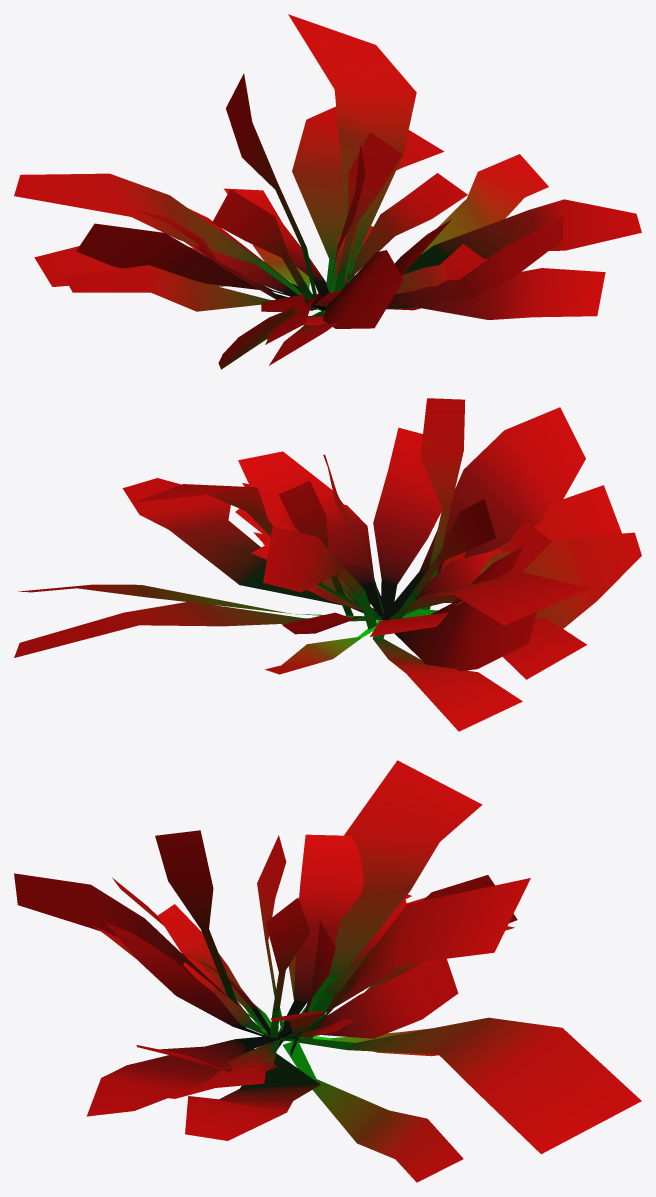
Rendered from Var2_LOD1.fbx.
3 views of the same model, one above another, from view 1: azimuth 30°, elevation 25°; view 2: azimuth 150°, elevation 25°; view 3: azimuth 270°, elevation 25° (orthographic). The views are drawn at different scales.
Visible parts, largest first — view 1: _8788_Var2_LOD1; view 2: _8788_Var2_LOD1; view 3: _8788_Var2_LOD1.
Boxes of the visible parts, <box> form: _8788_Var2_LOD1: <box>14,14,641,369</box>; _8788_Var2_LOD1: <box>14,398,641,731</box>; _8788_Var2_LOD1: <box>14,760,641,1182</box>.
Bounding box in the file's own units: 28.1 × 10.09 × 26.31.
